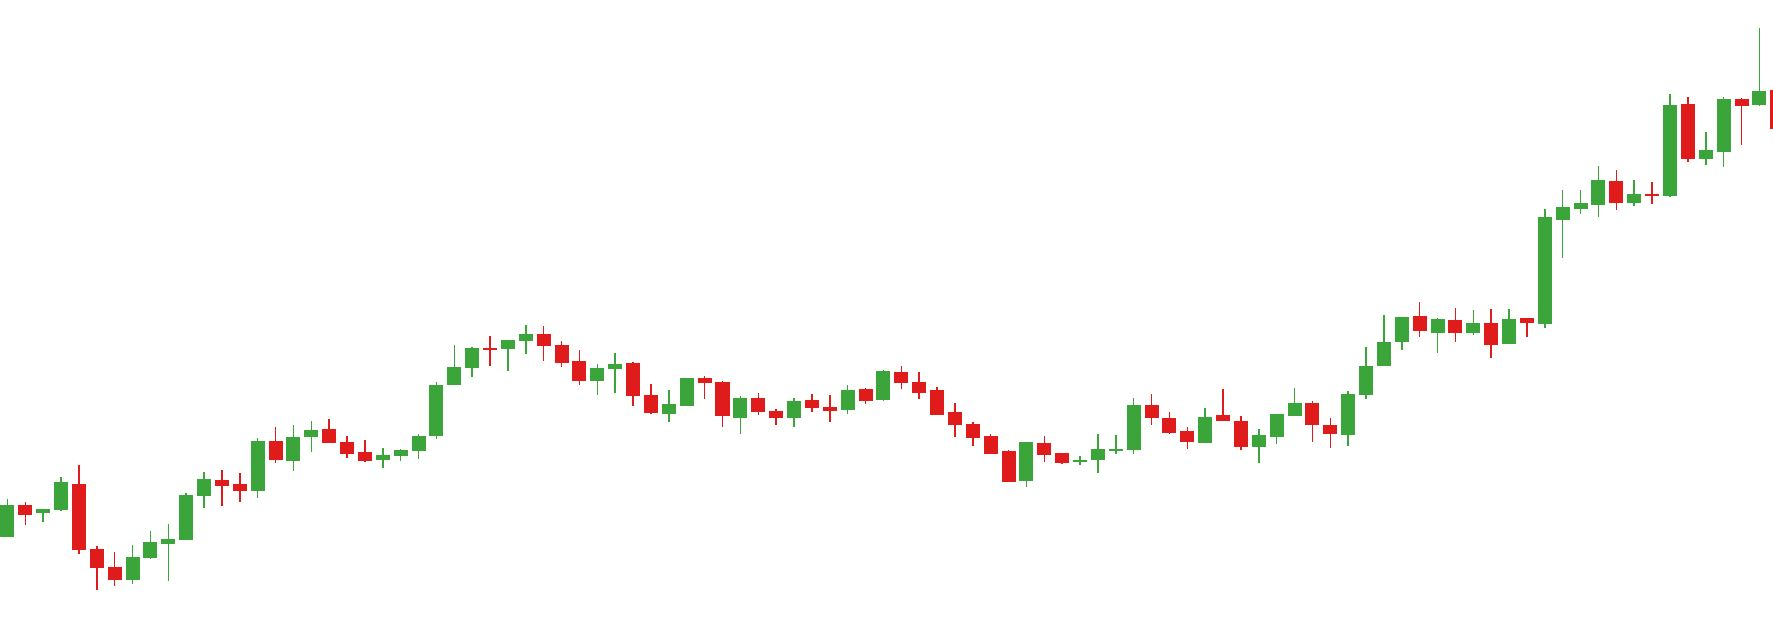buy: (1180, 404, 1268, 470)
